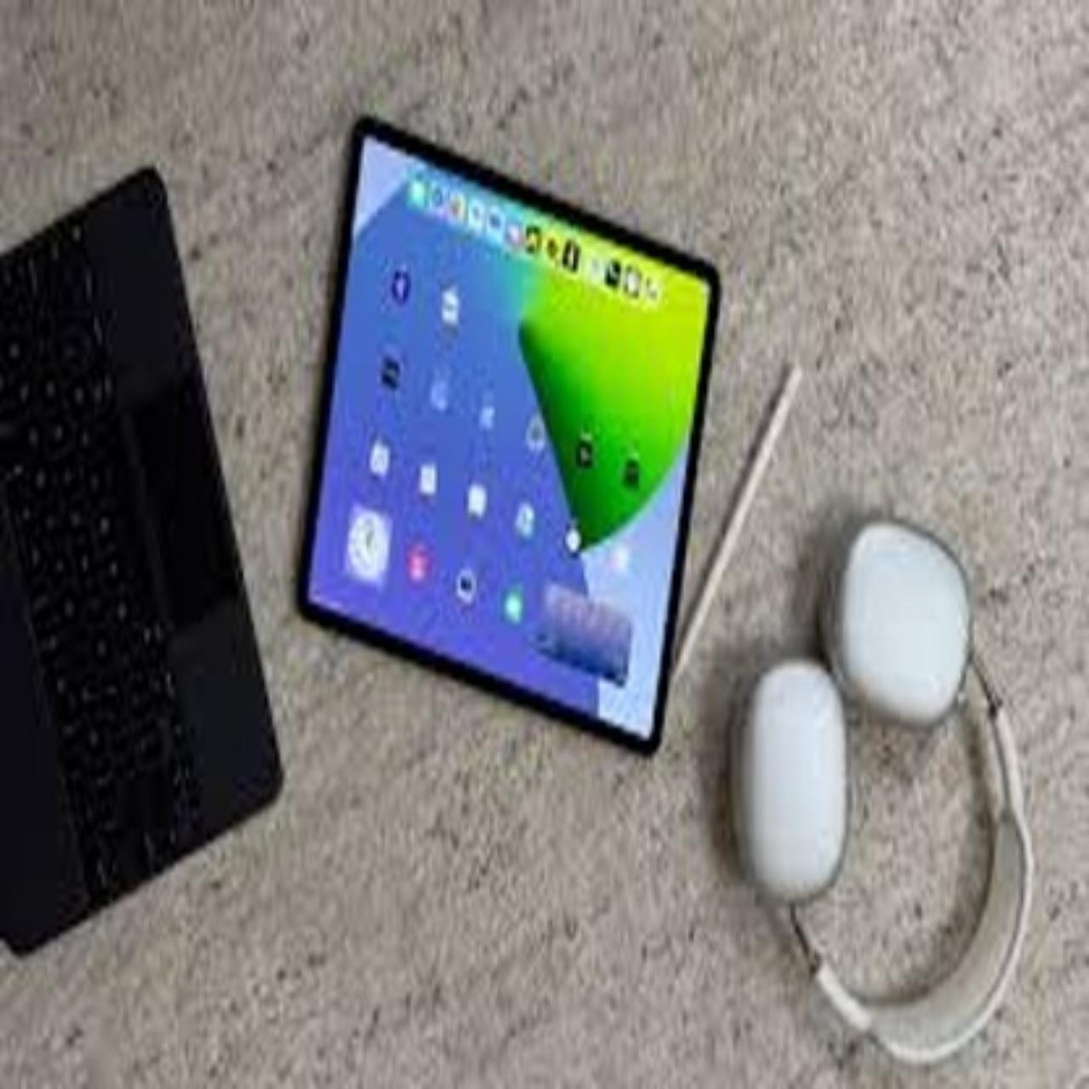Tablet_PC: (283, 103, 751, 757)
